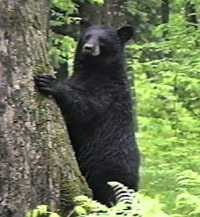bear: (30, 14, 158, 142)
